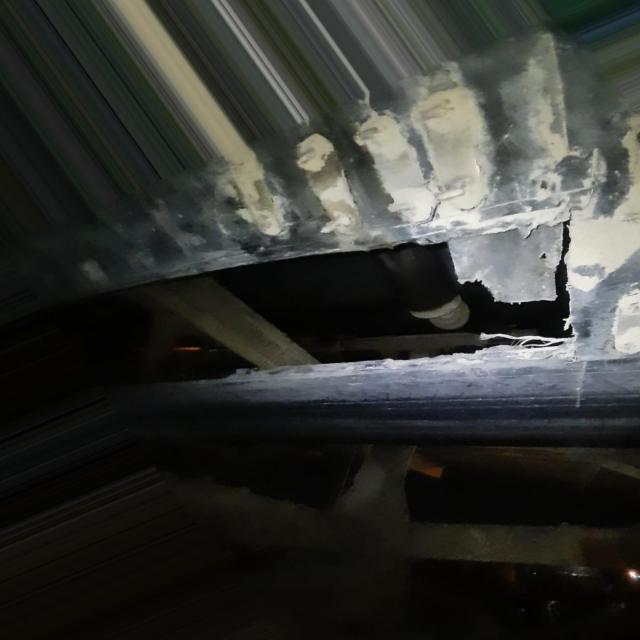Hole: (46, 220, 572, 392)
